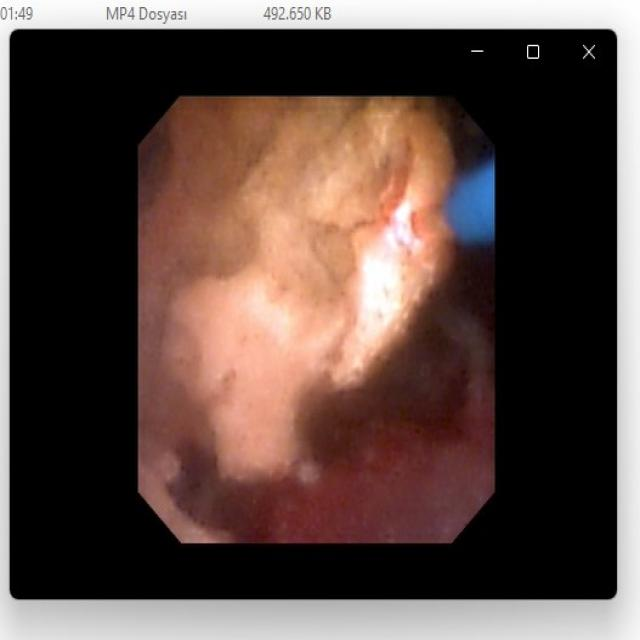fiber: (449, 163, 491, 240)
stone: (145, 104, 456, 542)
